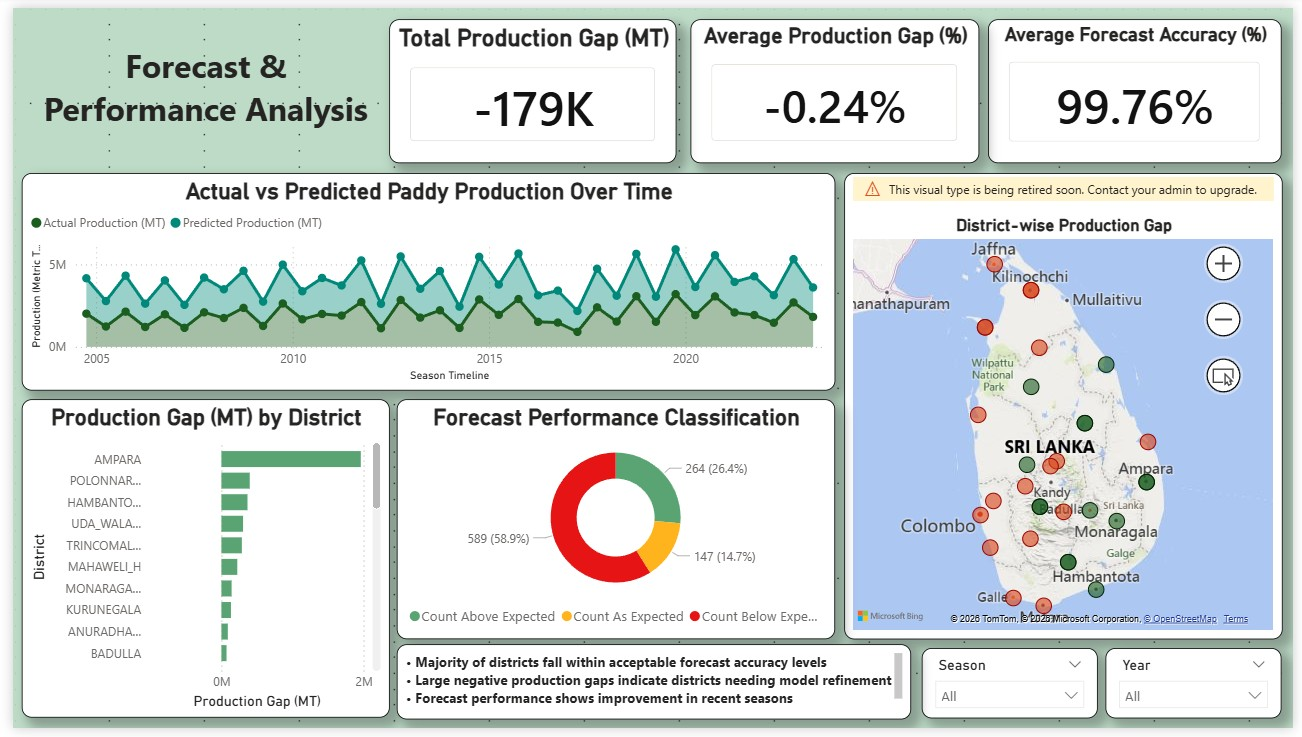

The page's visual inventory and layout, read from the dashboard file:
{"tool":"powerbi","page":{"name":"FORECAST AND PERFORMANCE ANALYSIS ","canvas":[1280,720],"ordinal":2},"visuals":[{"type":"cardVisual","title":"Average Forecast Accuracy (%)","fields":{"Data":["Key Measures.Avg Accuracy (%)"]},"box":[975,11.2,293.8,143.8],"z":0},{"type":"cardVisual","title":"Average Production Gap (%)","fields":{"Data":["Key Measures.Avg Gap (%)"]},"box":[677.5,11.2,288.8,143.8],"z":1000},{"type":"cardVisual","title":"Total Production Gap (MT)","fields":{"Data":["Key Measures.Production Gap (MT)"]},"box":[376.2,11.2,287.5,143.8],"z":2000},{"type":"stackedAreaChart","title":"Actual vs Predicted Paddy Production Over Time","fields":{"Category":["Date_Table.Date"],"Y":["Key Measures.Actual Production (MT)","Key Measures.Predicted Production (MT)"]},"box":[8.6,164.9,813.5,217.8],"z":3000},{"type":"map","title":"District-wise Production Gap","fields":{"Category":["Fact_Production.District"]},"box":[830.8,164.9,438.2,466.5],"z":4000},{"type":"barChart","fields":{"Category":["Fact_Production.District"],"Y":["Key Measures.Production Gap (MT)"]},"box":[8.6,391.4,368,318.8],"z":5000},{"type":"donutChart","title":"Forecast Performance Classification","fields":{"Y":["Key Measures.Count Above Expected","Key Measures.Count As Expected","Key Measures.Count Below Expected"]},"box":[384,391.4,438.2,240],"z":6000},{"type":"slicer","fields":{"Values":["Fact_Production.Season"]},"box":[908.3,640,176,70.2],"z":7000},{"type":"slicer","fields":{"Values":["Date_Table.Year"]},"box":[1092.9,640,176,70.2],"z":8000},{"type":"textbox","box":[384,636.3,514.5,75.1],"z":9000},{"type":"textbox","box":[8.6,30.8,368,124.3],"z":10000}]}

Visuals, with their boxes in screenshot pixels (x1, y1, x2, y2), scaled from the page's 1280x720 canvas onto the 1302x737 screenshot:
"Average Forecast Accuracy (%)" cardVisual: 992, 11, 1291, 159
"Average Production Gap (%)" cardVisual: 689, 11, 983, 159
"Total Production Gap (MT)" cardVisual: 383, 11, 675, 159
"Actual vs Predicted Paddy Production Over Time" stackedAreaChart: 9, 169, 836, 392
"District-wise Production Gap" map: 845, 169, 1291, 646
barChart - Fact_Production.District x Key Measures.Production Gap (MT): 9, 401, 383, 727
"Forecast Performance Classification" donutChart: 391, 401, 836, 646
slicer - Fact_Production.Season: 924, 655, 1103, 727
slicer - Date_Table.Year: 1112, 655, 1291, 727
textbox: 391, 651, 914, 728
textbox: 9, 32, 383, 159
